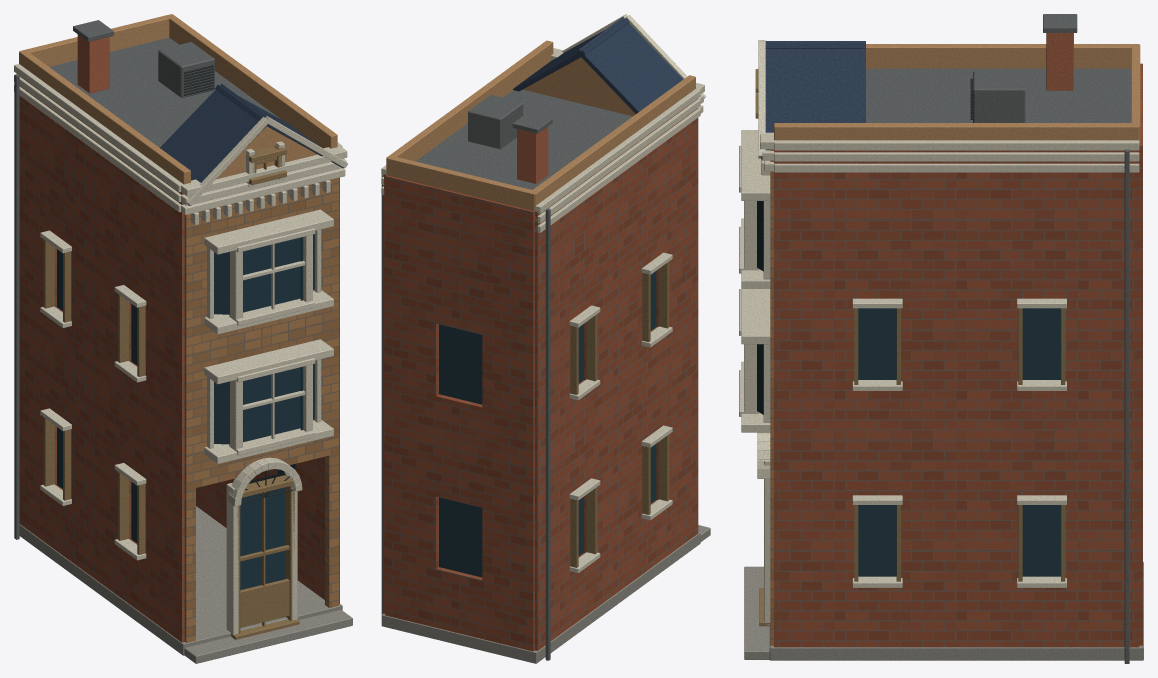
The model's file is VICT24_lod1.glb.
3 views of the same model, side by side, from view 1: azimuth 30°, elevation 25°; view 2: azimuth 150°, elevation 25°; view 3: azimuth 270°, elevation 25° (orthographic). The views are drawn at different scales.
Parts seen in each view (by area): view 1: VICT24_LOD1; view 2: VICT24_LOD1; view 3: VICT24_LOD1.
Boxes of the visible parts, bbox=[...] form: VICT24_LOD1: bbox=[14, 14, 352, 663]; VICT24_LOD1: bbox=[381, 14, 710, 663]; VICT24_LOD1: bbox=[739, 14, 1143, 663].
Bounding box in the file's own units: 3.71 × 10.46 × 6.65.
Materials: 12 (10 with a texture image).
